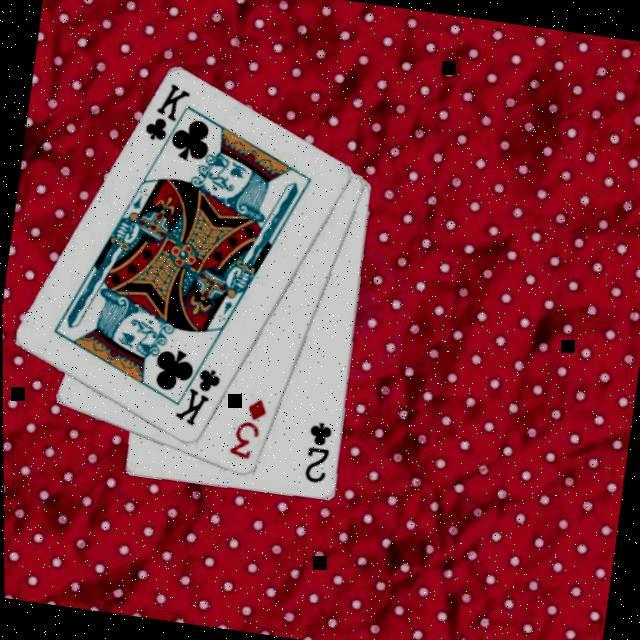2C: (300, 418, 337, 488)
3D: (225, 391, 272, 464)
KC: (169, 350, 227, 432), (139, 78, 197, 160)
